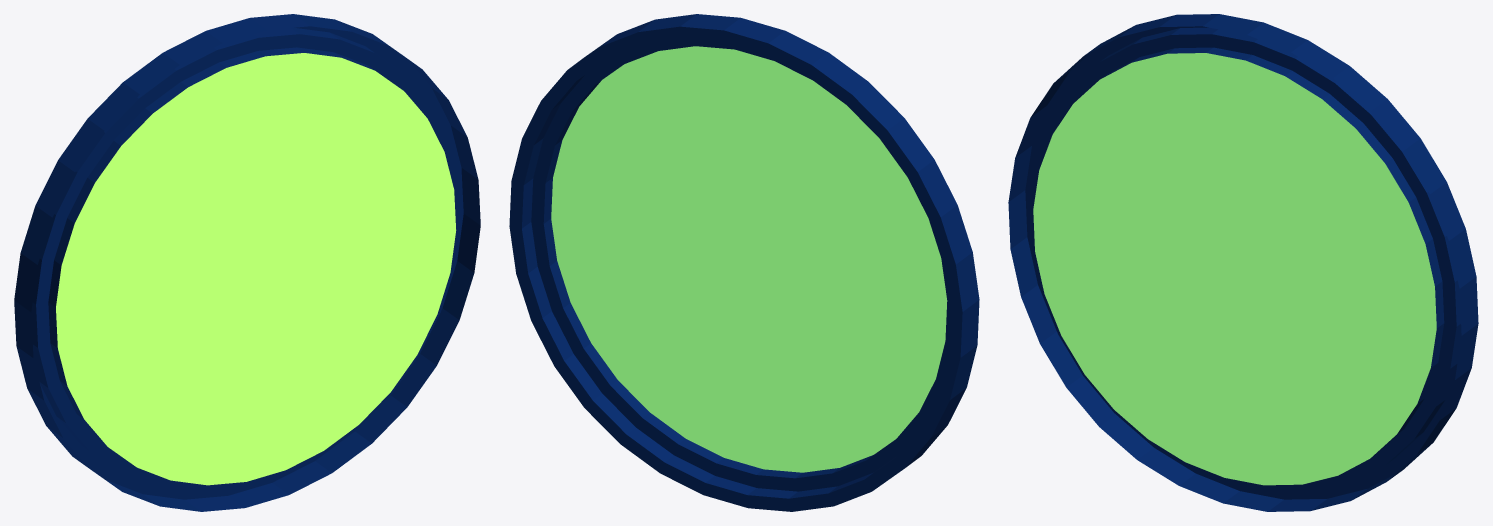
The model's file is Lens.fbx.
3 views of the same model, side by side, from view 1: azimuth 30°, elevation 25°; view 2: azimuth 150°, elevation 25°; view 3: azimuth 330°, elevation 25° (orthographic).
Parts seen in each view (by area): view 1: Circle_002; view 2: Circle_002; view 3: Circle_002.
Part boxes in pixels (<box>): Circle_002: <box>14,14,480,511</box>; Circle_002: <box>509,14,979,511</box>; Circle_002: <box>1008,14,1478,511</box>.
Bounding box in the file's own units: 1.09 × 1.09 × 0.0776.
